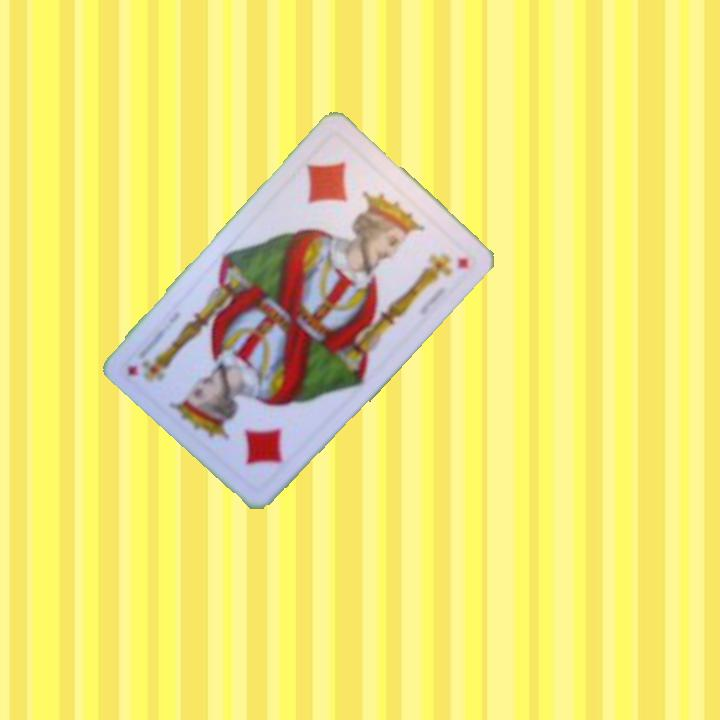d_k.png: (278, 129, 407, 258), (189, 367, 318, 495)
